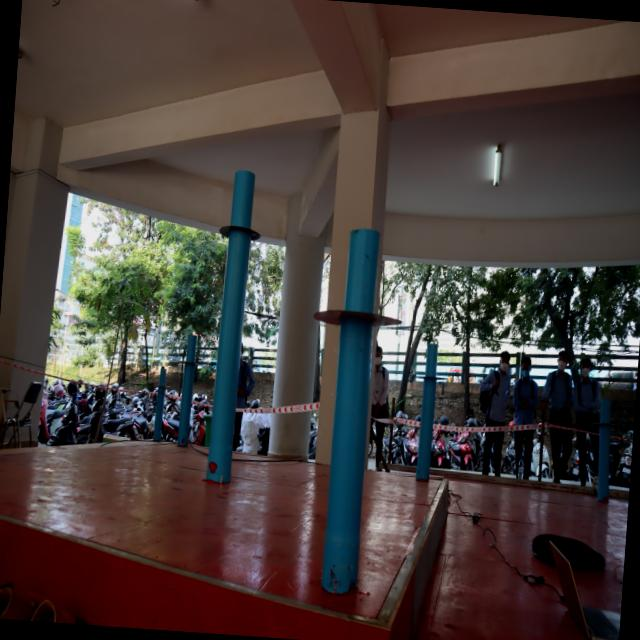pole: (310, 224, 405, 380), (211, 166, 274, 255), (586, 377, 628, 443), (415, 338, 450, 406)
